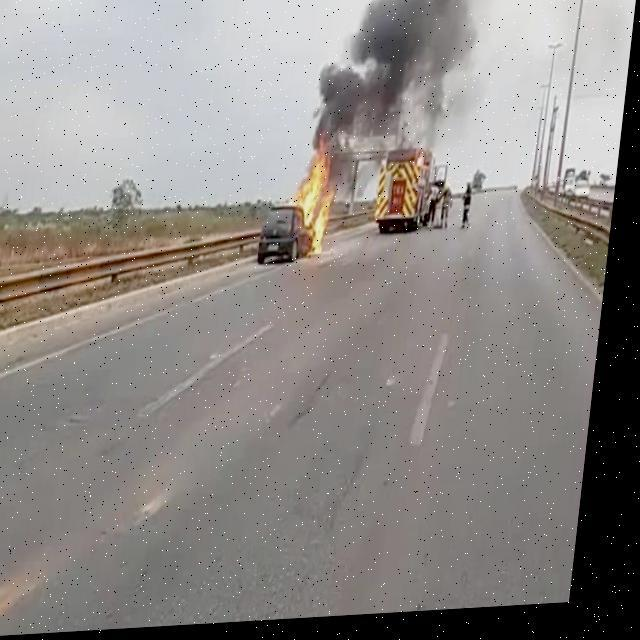Fire: (291, 152, 345, 268)
